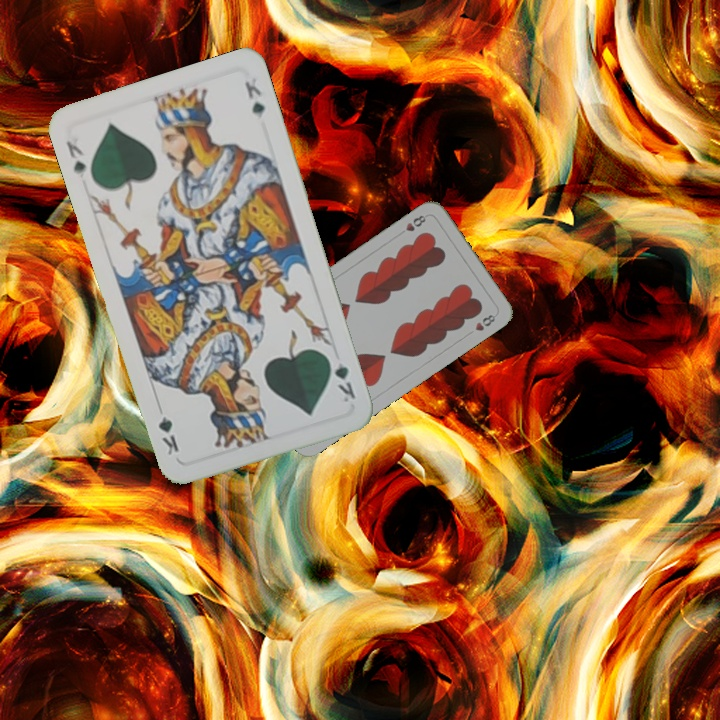GK: (323, 351, 358, 405), (62, 137, 89, 181)
H8: (402, 211, 428, 234)
